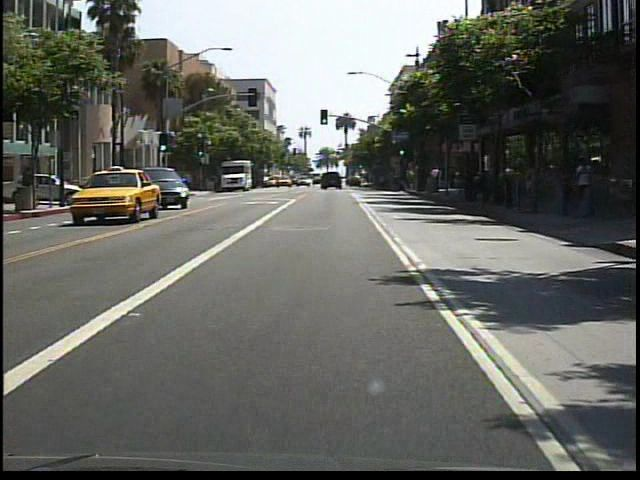person: (573, 153, 599, 192)
